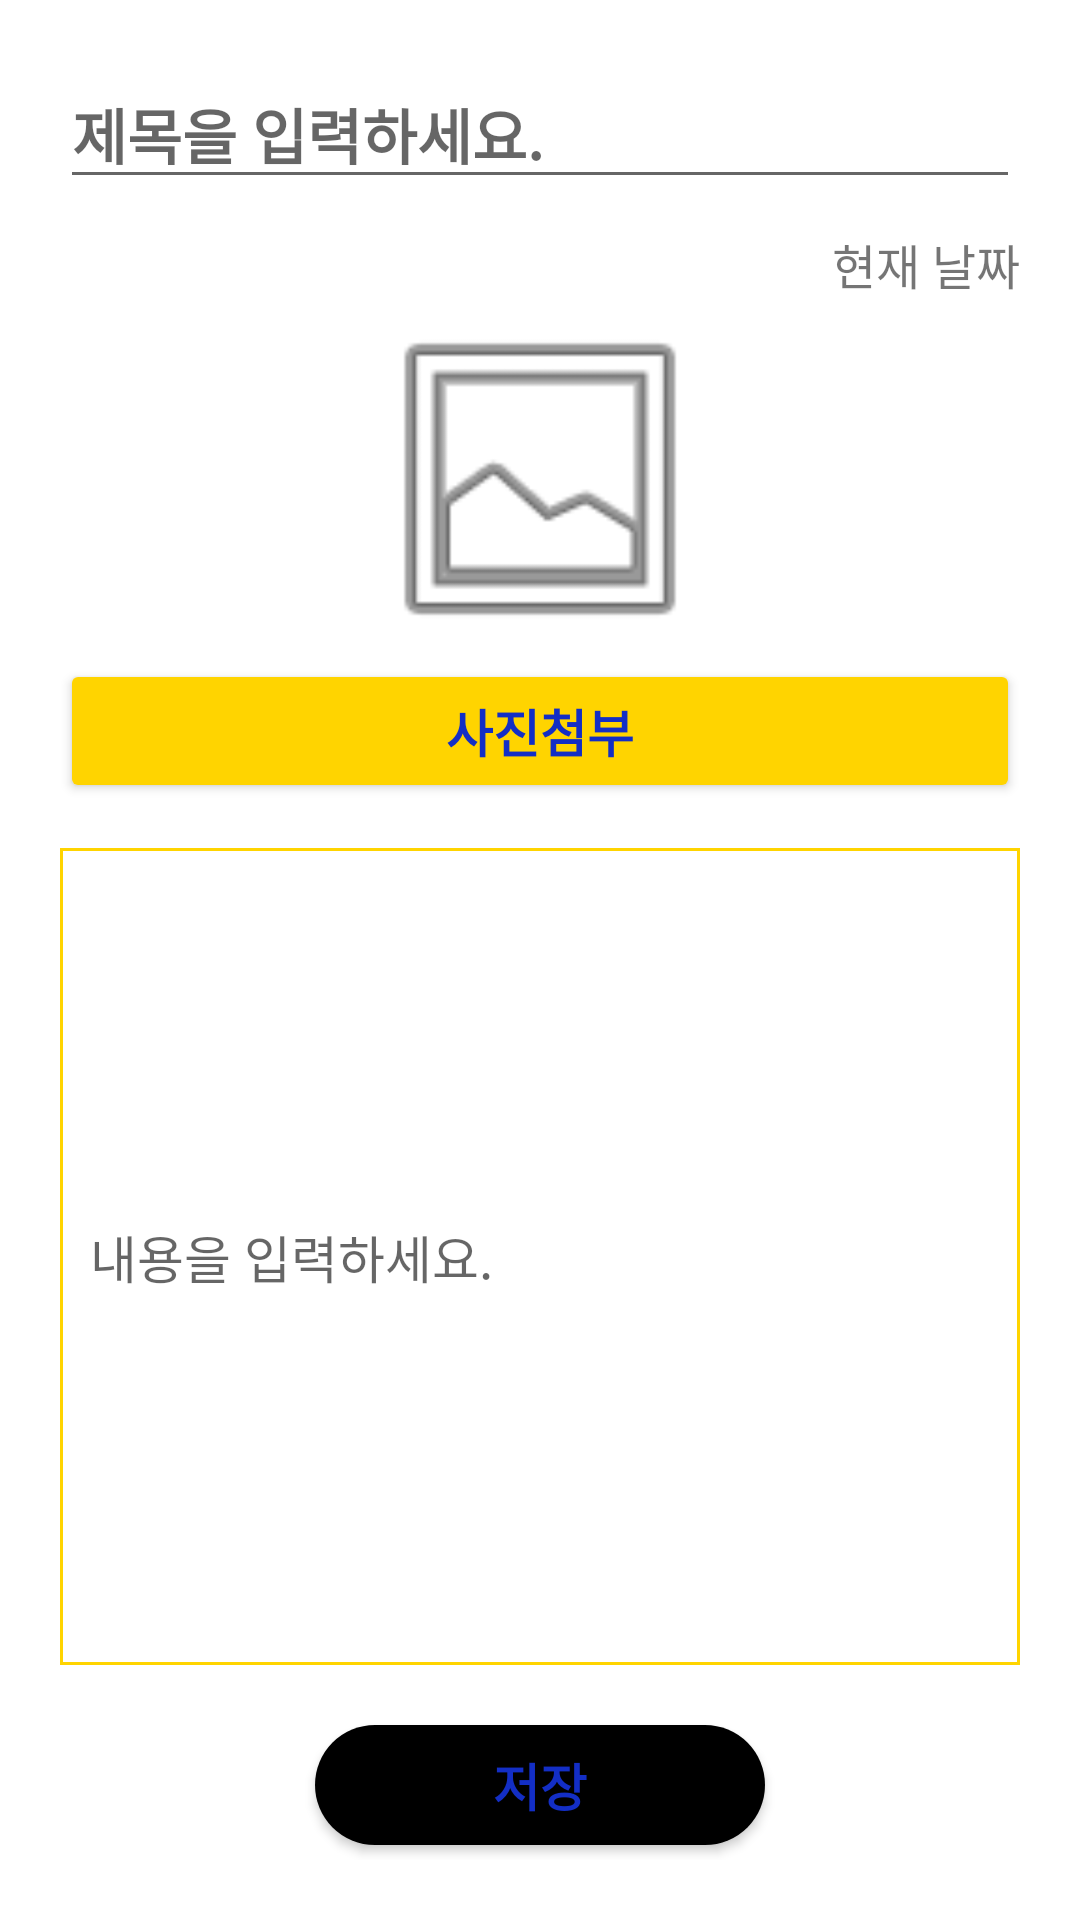

Locate icon controls on the screen. Image size 1080*1920, boxes as (x1,y1,x2,y2).
gallery: (404,343,676,615)
